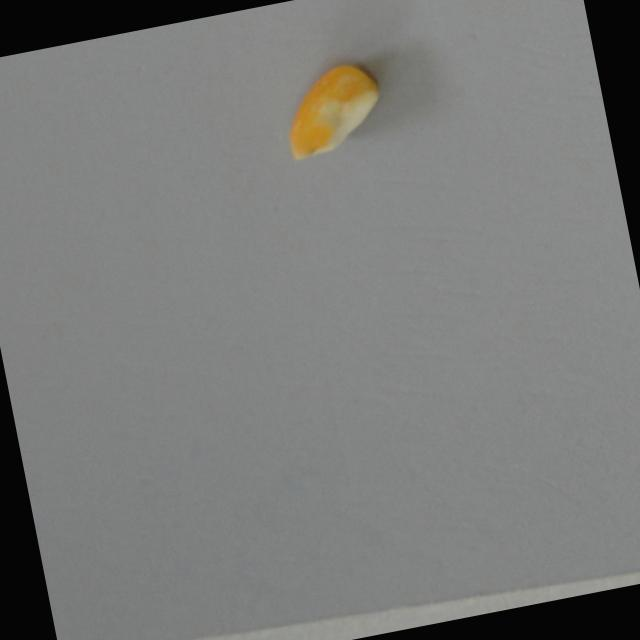punto_negro: (269, 54, 393, 164)
